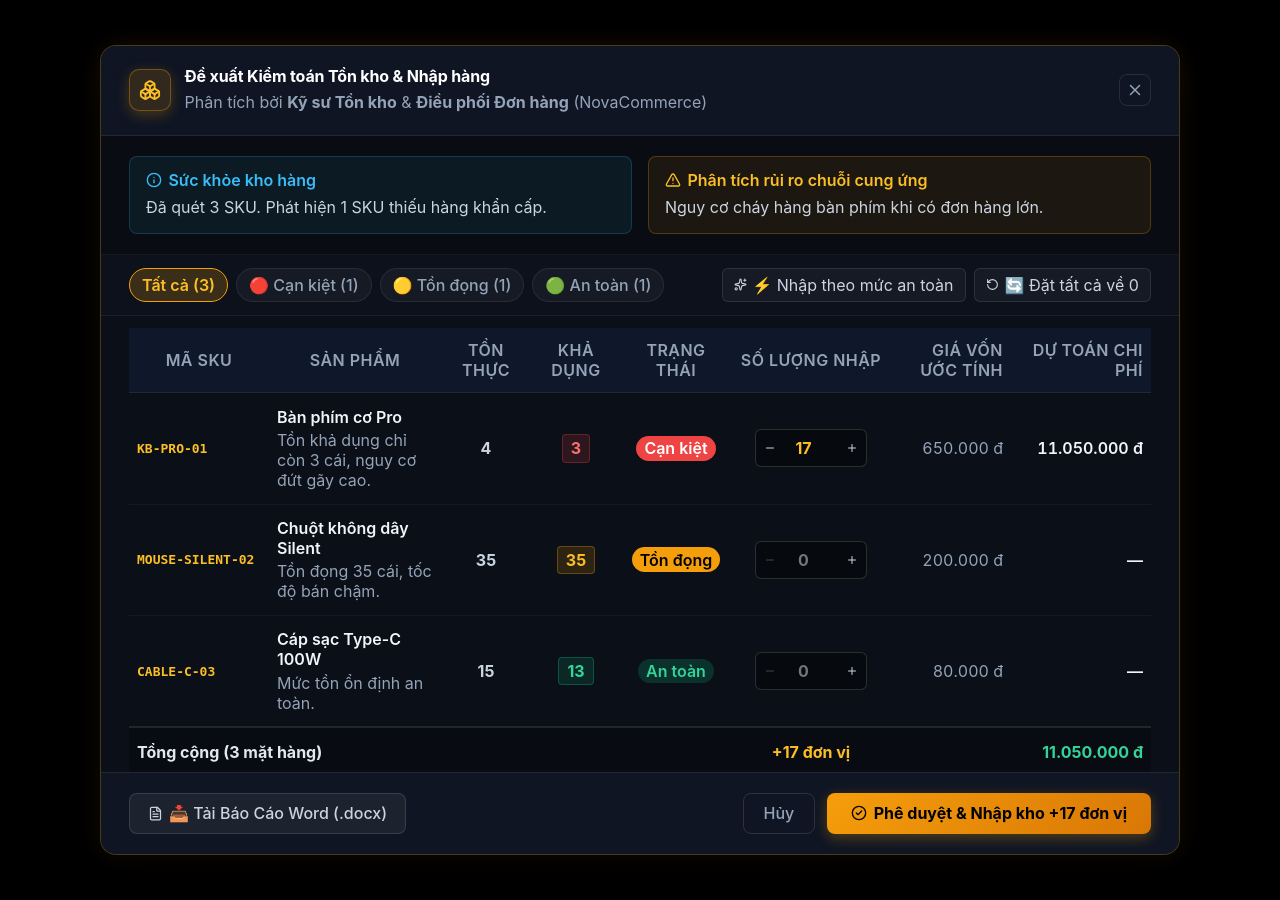
Test: OperationsProposalModal › filters items by risk classification tabs
The width and height of the screenshot is (1280, 900).
Note: Click Critical Low Tab
Click the button "🔴 Cạn kiệt (1)" at coordinates (304, 285), box [236,268,372,302]
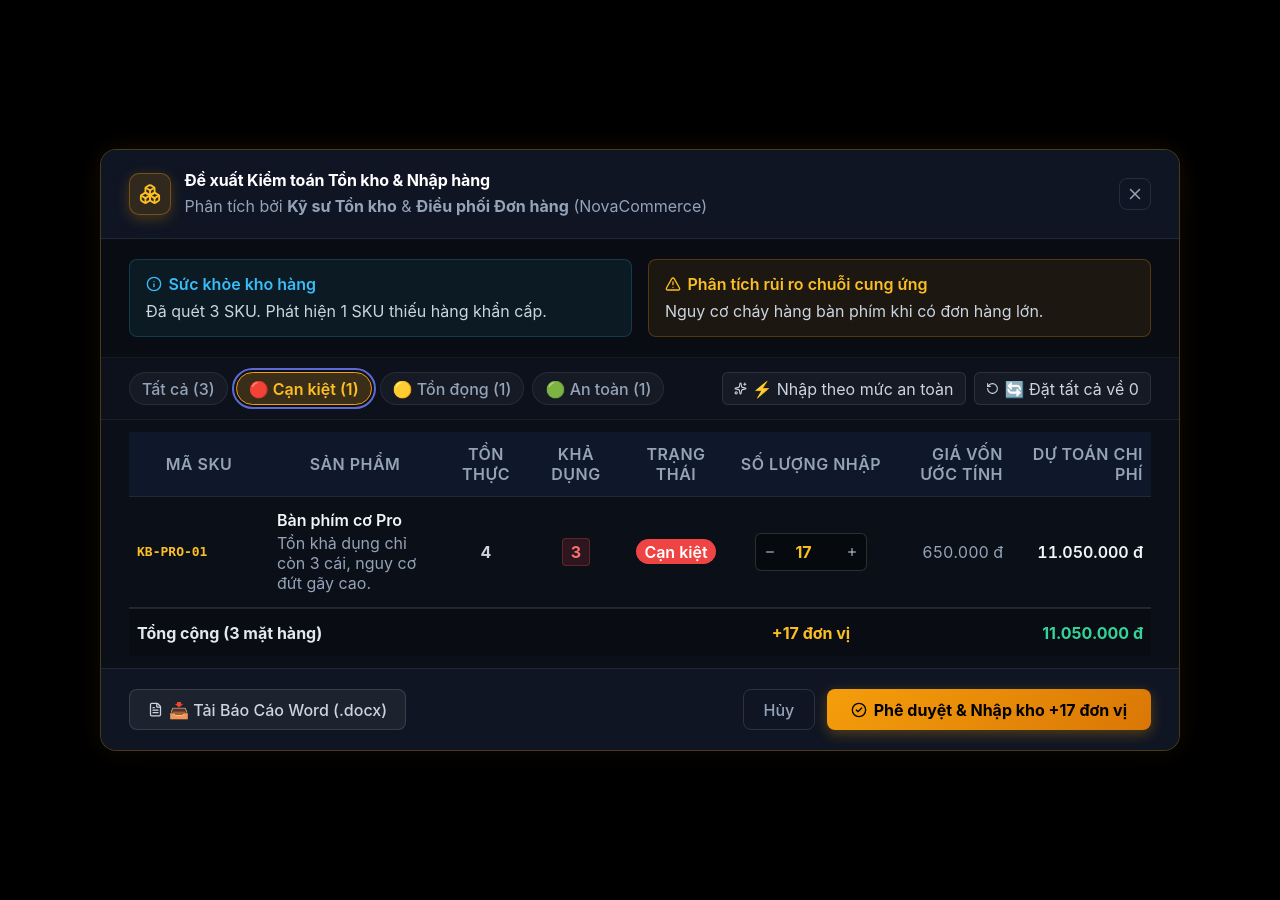
expect the text "KB-PRO-01" is shown: met, box [129,496,269,608]
expect the text "MOUSE-SILENT-02" is gone: met
expect the text "CABLE-C-03" is gone: met
Note: Click Slow Moving Tab
Click the button "🟡 Tồn đọng (1)" at coordinates (452, 388), box [380,372,524,405]
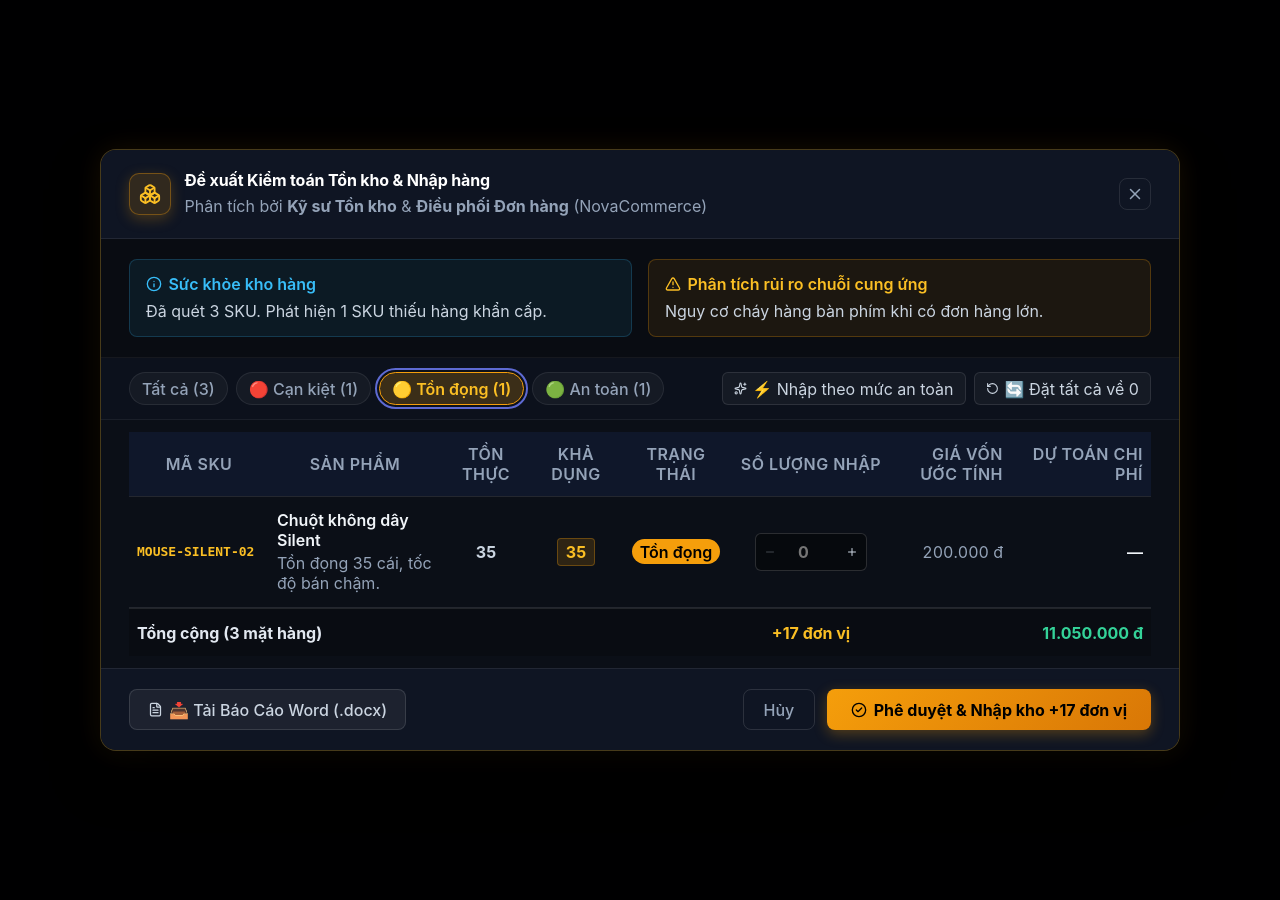
expect the text "CABLE-C-03" is not shown: met
expect the text "KB-PRO-01" is gone: met
expect the text "MOUSE-SILENT-02" is shown: met, box [129,496,269,608]
